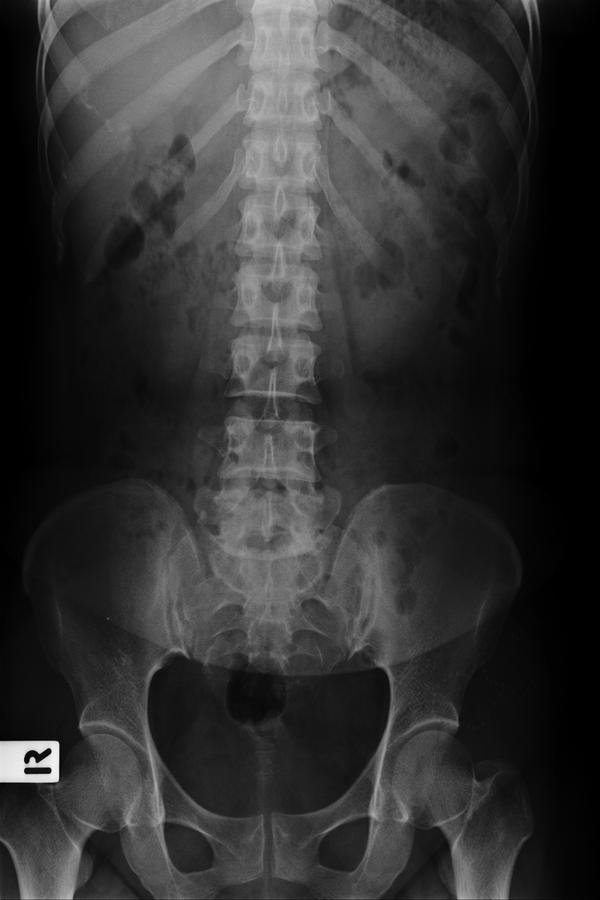not lumbar scoliosis: (228, 200, 330, 559)
